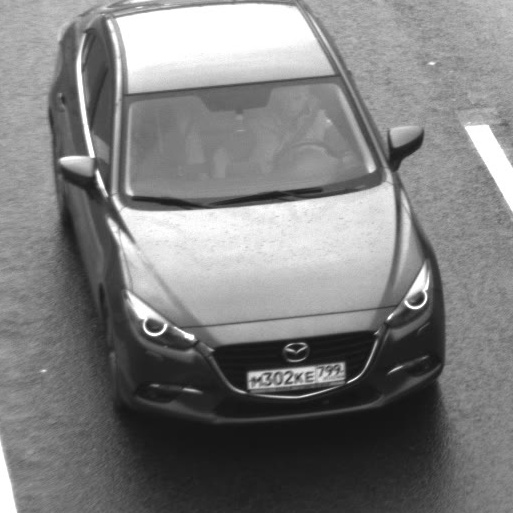plate: (237, 349, 355, 396)
